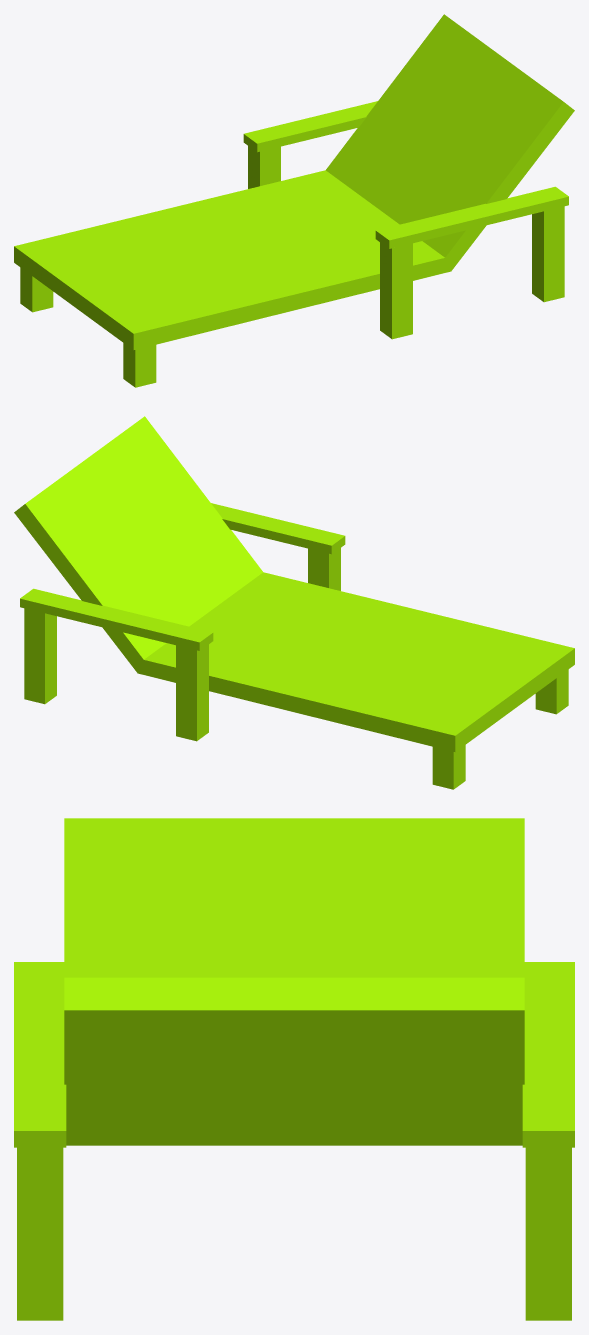
The model's file is pool_chair_04.fbx.
3 renders of one model, top to bottom at view 1: azimuth 30°, elevation 25°; view 2: azimuth 150°, elevation 25°; view 3: azimuth 270°, elevation 25°, orthographic. The views are drawn at different scales.
Visible parts, largest first — view 1: pool_chair_04; view 2: pool_chair_04; view 3: pool_chair_04.
Part boxes in pixels (x1,y1,x2,y2): pool_chair_04: [14, 14, 574, 387]; pool_chair_04: [14, 416, 574, 789]; pool_chair_04: [14, 818, 574, 1320].
Bounding box in the file's own units: 1.74 × 0.6939 × 0.9975.
